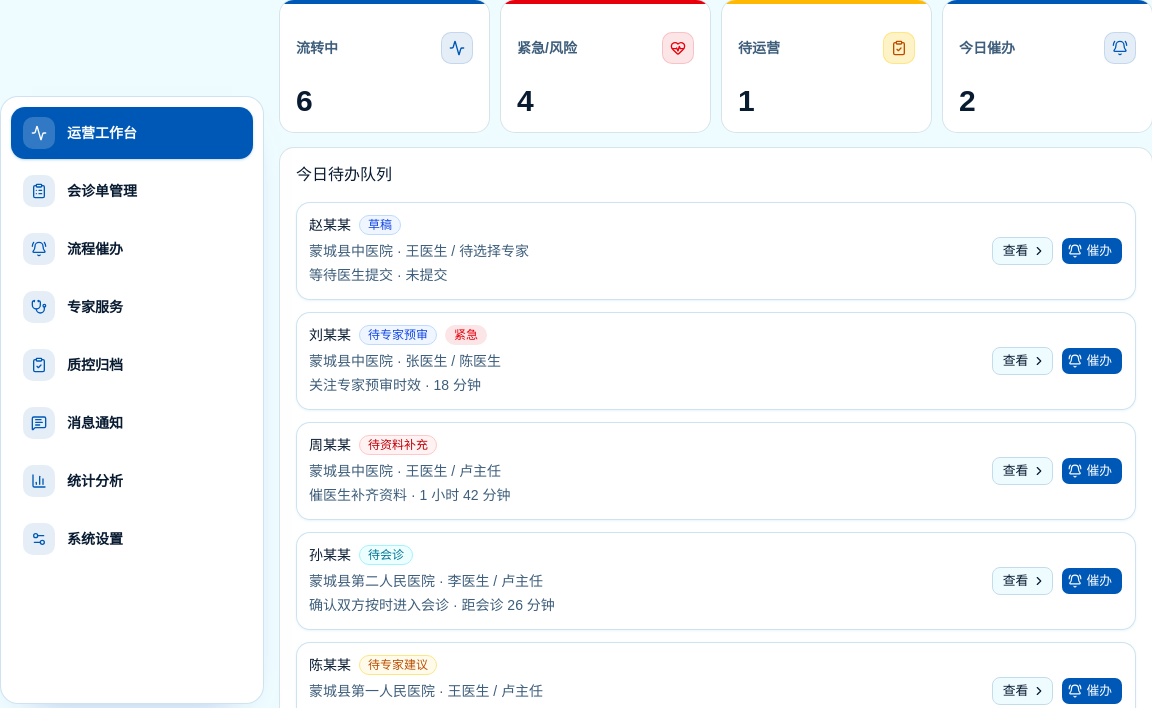
Test: AdminView navigation › shows realistic report metrics without the section intro card
Click the button "统计分析": (132, 481) [11, 455, 253, 507]
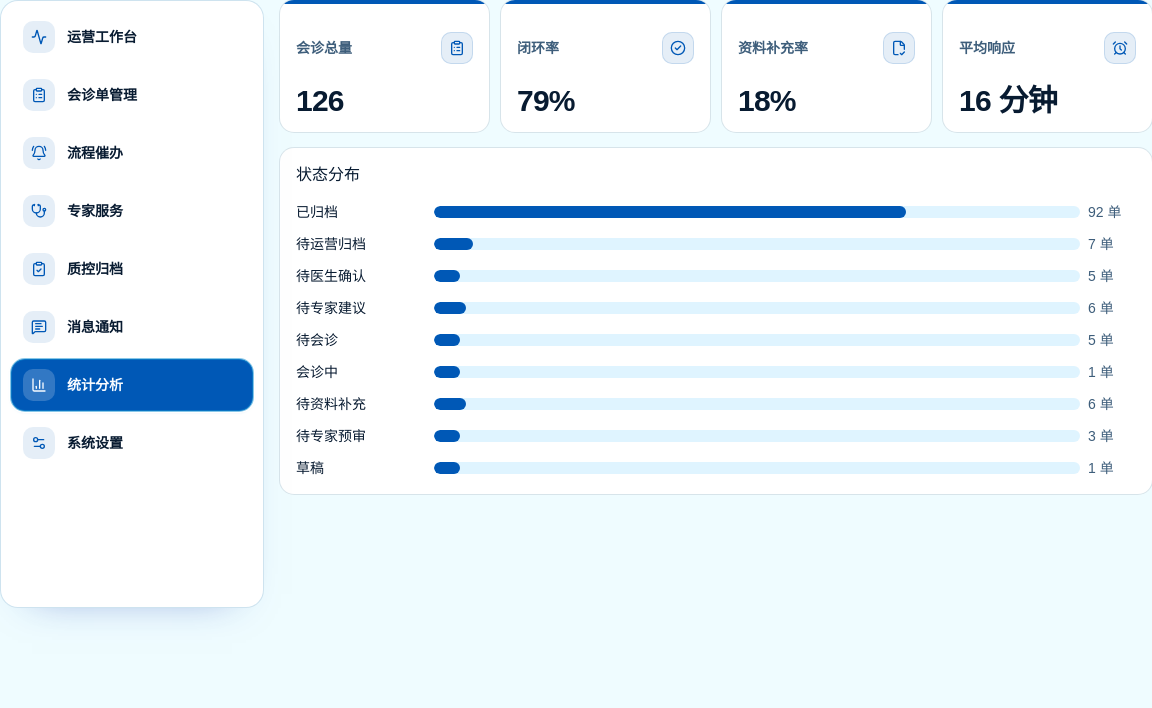
Expected: the text "会诊总量" is shown, [296, 38, 352, 58]
Expected: the text "126" is shown, [296, 84, 344, 117]
Expected: the text "闭环率" is shown, [517, 38, 559, 58]
